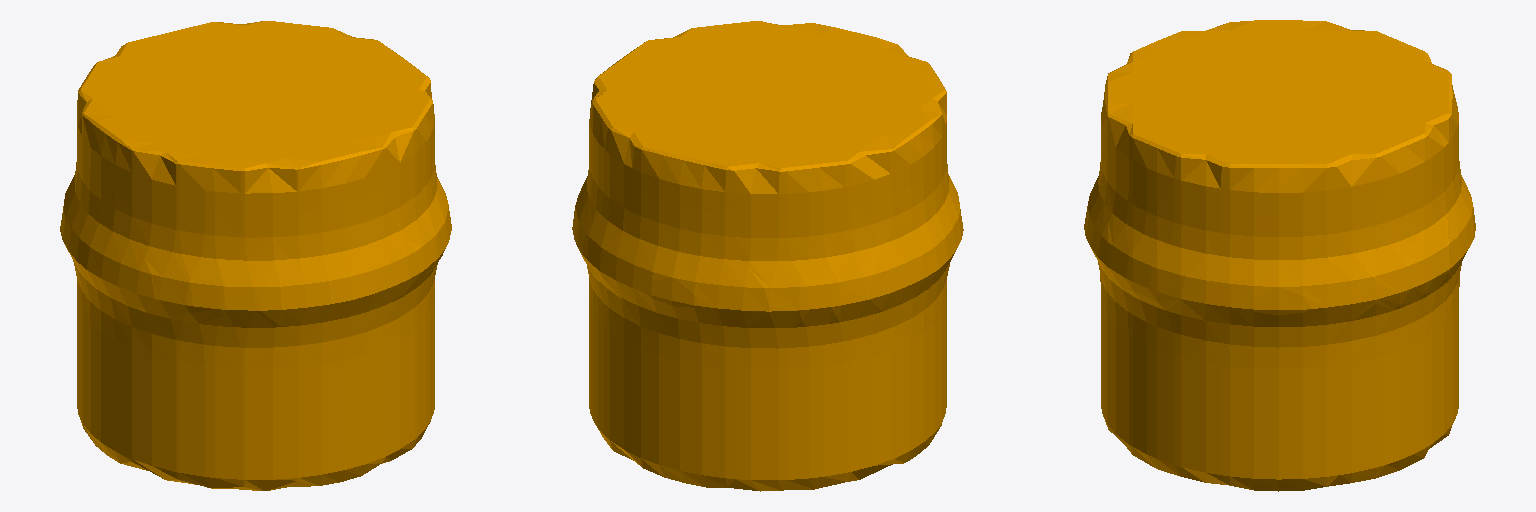
URDF robot description (cylinder_../../meshes/cylinders/cylinder_133.stl):
<?xml version="1.0" encoding="utf-8"?>  <robot name="cylinder_../../meshes/cylinders/cylinder_133.stl">   <link name="cylinder_../../meshes/cylinders/cylinder_133.stl">     <visual>       <geometry>         <mesh filename="../meshes/cylinders/cylinder_133.stl" scale="1 1 1"/>       </geometry>     </visual>     <collision>       <geometry>         <mesh filename="../meshes/cylinders/cylinder_133.stl" scale="1 1 1"/>       </geometry>     </collision>     <inertial>        <origin         xyz="0 0 0"         rpy="0 0 0" />       <mass value="0.32543613377102204"/>       <origin rpy="0 0 0" xyz="0 0 0"/>       <inertia ixx="0.0002596103811289856" ixy="-7.516882083261803e-09" ixz="5.2095536544798e-08" iyy="0.00025961029122569315" iyz="5.5254641585328065e-08" izz="0.00022631045489632606"/>     </inertial>   </link>  </robot>

--- Facts derived from the render (not from the file) ---
The picture shows the robot from 3 angles, left to right: view 1: azimuth 30°, elevation 25°; view 2: azimuth 150°, elevation 25°; view 3: azimuth 270°, elevation 25°; orthographic projection.
Model cylinder_../../meshes/cylinders/cylinder_133.stl with 1 links and 0 joints (none), rooted at cylinder_../../meshes/cylinders/cylinder_133.stl, posed all joints at 0.
Visible links, largest first — view 1: cylinder_../../meshes/cylinders/cylinder_133.stl; view 2: cylinder_../../meshes/cylinders/cylinder_133.stl; view 3: cylinder_../../meshes/cylinders/cylinder_133.stl.
Boxes of the visible links, x1,y1,x2,y2 form: cylinder_../../meshes/cylinders/cylinder_133.stl: [60, 21, 451, 490]; cylinder_../../meshes/cylinders/cylinder_133.stl: [572, 21, 963, 491]; cylinder_../../meshes/cylinders/cylinder_133.stl: [1084, 20, 1475, 491].
Size in the robot's own frame: 0.0806 by 0.0806 by 0.0748 metres.
Meshes: 1 distinct files referenced, 1 mesh visuals loaded (1 binary STL).